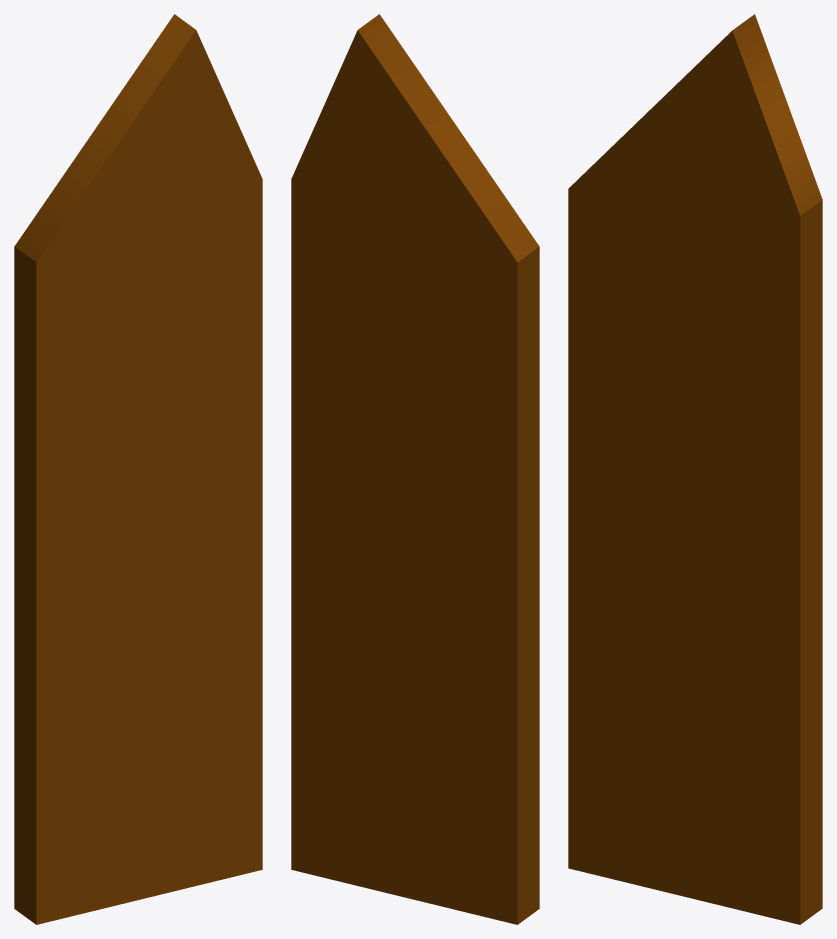
The model's file is BrokenWoodenPlankMesh.fbx.
The picture shows the model from 3 angles, left to right: view 1: azimuth 30°, elevation 25°; view 2: azimuth 150°, elevation 25°; view 3: azimuth 330°, elevation 25°; orthographic projection. The views are drawn at different scales.
Parts seen in each view (by area): view 1: pCube114; view 2: pCube114; view 3: pCube114.
Part boxes in pixels (box(x1,y1,x2,y2)): pCube114: box(14, 14, 262, 924); pCube114: box(291, 14, 539, 924); pCube114: box(568, 14, 822, 924).
Bounding box in the file's own units: 31.94 × 116 × 5.37.
